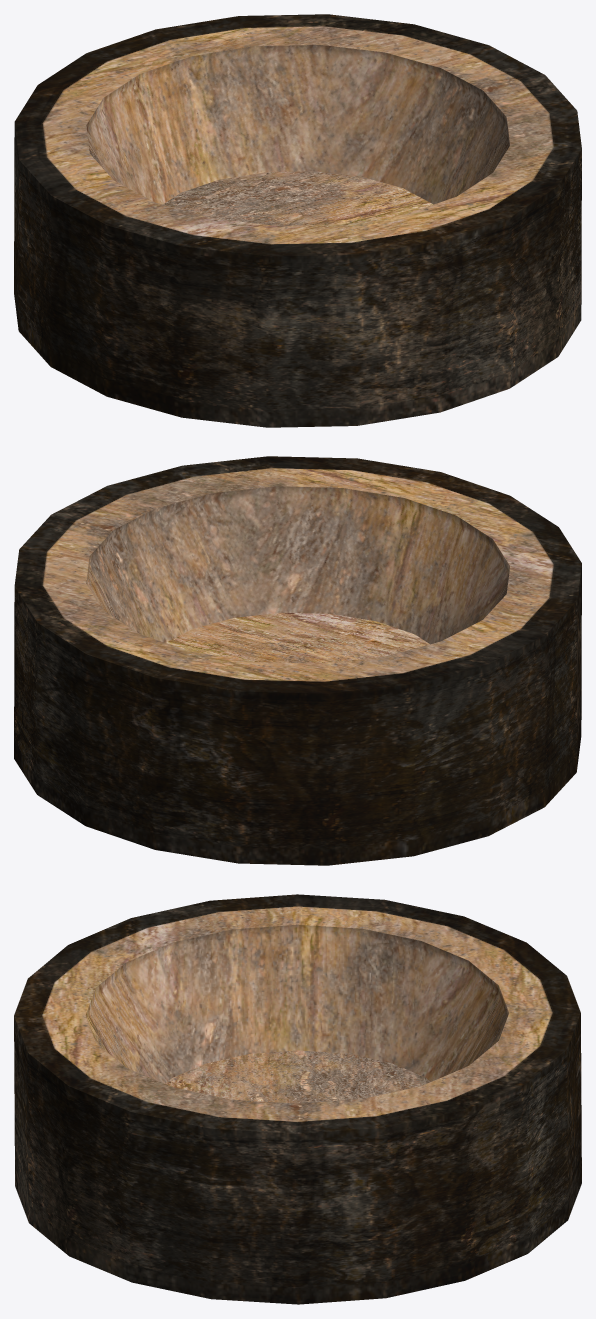
The model's file is dogbowl.glb.
3 views of the same model, one above another, from view 1: azimuth 30°, elevation 25°; view 2: azimuth 150°, elevation 25°; view 3: azimuth 270°, elevation 25° (orthographic).
Parts seen in each view (by area): view 1: bark_bowl_tall_LP3; view 2: bark_bowl_tall_LP3; view 3: bark_bowl_tall_LP3.
Part boxes in pixels (bbox=[...]): bark_bowl_tall_LP3: bbox=[14, 14, 581, 427]; bark_bowl_tall_LP3: bbox=[14, 456, 581, 865]; bark_bowl_tall_LP3: bbox=[14, 894, 581, 1304].
Size of the model in its own units: 12.32 by 4.16 by 12.34.
Materials: 1 (1 with a texture image).
